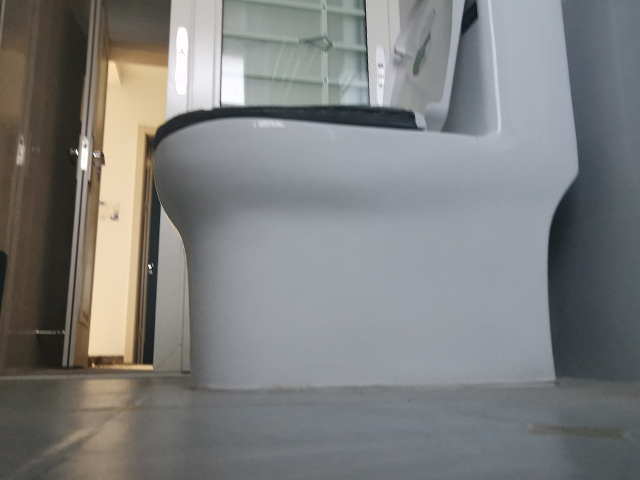closetool: (148, 1, 582, 393)
